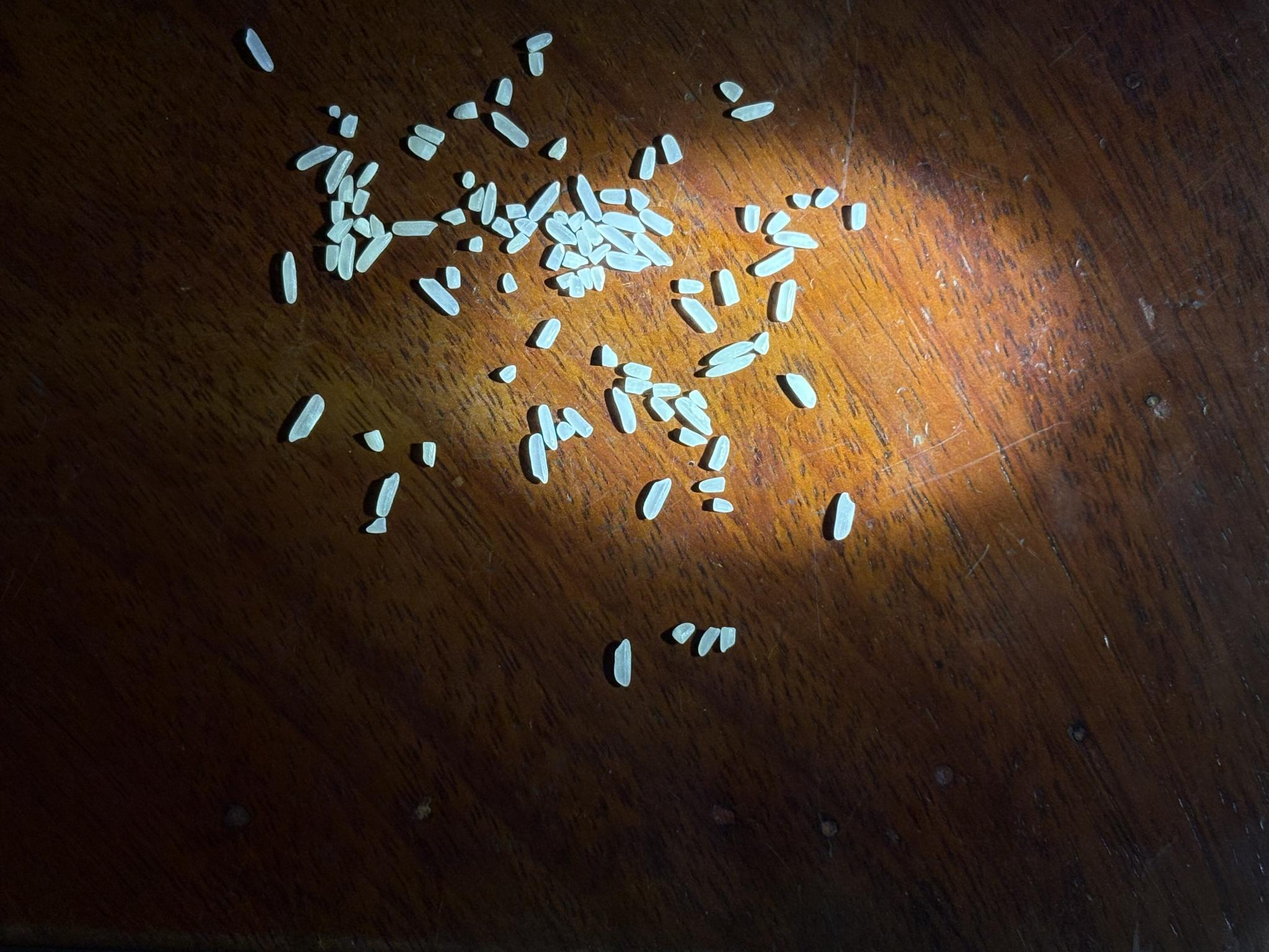Rice-th-y-nh: (286, 393, 327, 442), (418, 273, 461, 319), (706, 348, 757, 386), (355, 228, 395, 276), (569, 173, 607, 223), (520, 431, 555, 485), (679, 292, 719, 338), (708, 333, 755, 372), (754, 241, 796, 283), (827, 491, 861, 542), (273, 251, 305, 304), (640, 475, 675, 522), (607, 386, 641, 434), (370, 471, 404, 519), (527, 179, 563, 224), (531, 403, 564, 452), (605, 245, 651, 280), (606, 638, 638, 688), (674, 396, 714, 436), (490, 110, 531, 149), (632, 230, 673, 269), (295, 139, 337, 177), (769, 277, 802, 325), (773, 223, 819, 256), (784, 369, 820, 411), (391, 212, 438, 244), (731, 95, 775, 129), (331, 233, 362, 281), (243, 27, 275, 73), (596, 222, 637, 256), (323, 149, 353, 195), (475, 182, 504, 226), (714, 267, 744, 308), (638, 206, 675, 239), (601, 208, 644, 236), (705, 434, 735, 473), (561, 405, 594, 439), (543, 218, 578, 248), (635, 145, 661, 181), (406, 134, 438, 163), (677, 423, 709, 452), (535, 317, 562, 351), (413, 121, 446, 148), (659, 133, 685, 167), (623, 372, 654, 400), (696, 625, 722, 658), (621, 358, 654, 383), (326, 216, 354, 245), (739, 202, 764, 234), (334, 173, 359, 205), (765, 209, 792, 238), (492, 76, 517, 107), (649, 395, 676, 423), (355, 160, 380, 190), (453, 98, 480, 125), (599, 183, 627, 209), (814, 183, 840, 211), (670, 618, 696, 646), (581, 218, 605, 248), (651, 378, 681, 402), (545, 242, 568, 273), (586, 240, 612, 267), (627, 185, 652, 213), (698, 472, 726, 497), (675, 274, 704, 298), (716, 624, 740, 653), (848, 201, 871, 231), (513, 214, 539, 240), (718, 79, 745, 104), (525, 31, 554, 54), (587, 263, 609, 293), (490, 215, 516, 240), (597, 343, 621, 370), (561, 249, 589, 272), (320, 243, 342, 272), (350, 187, 371, 217), (441, 204, 467, 228), (573, 230, 595, 258), (466, 185, 487, 214), (506, 230, 530, 255), (338, 112, 360, 139), (547, 136, 570, 161), (352, 215, 375, 240), (526, 50, 547, 77), (752, 330, 773, 357), (419, 440, 439, 468), (362, 429, 386, 452), (565, 274, 587, 299), (503, 200, 528, 222), (497, 363, 520, 386), (687, 387, 709, 411), (327, 199, 347, 225), (367, 213, 387, 239), (443, 265, 464, 289), (566, 209, 586, 234), (555, 420, 577, 442), (365, 516, 389, 536), (576, 265, 595, 290), (791, 190, 813, 211), (500, 271, 520, 294), (711, 496, 734, 515), (555, 271, 577, 290), (467, 234, 485, 255), (552, 209, 570, 227), (461, 170, 477, 189), (327, 104, 342, 119)
